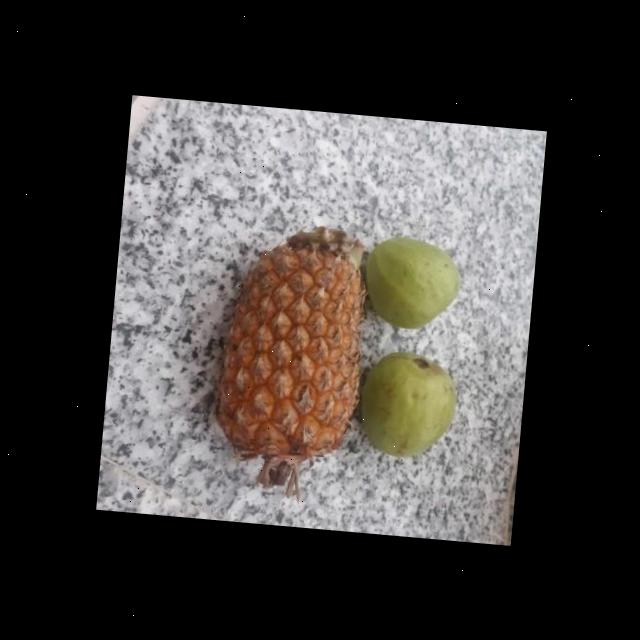guava: (358, 347, 457, 459), (356, 229, 461, 333)
pineapple: (208, 216, 375, 481)
